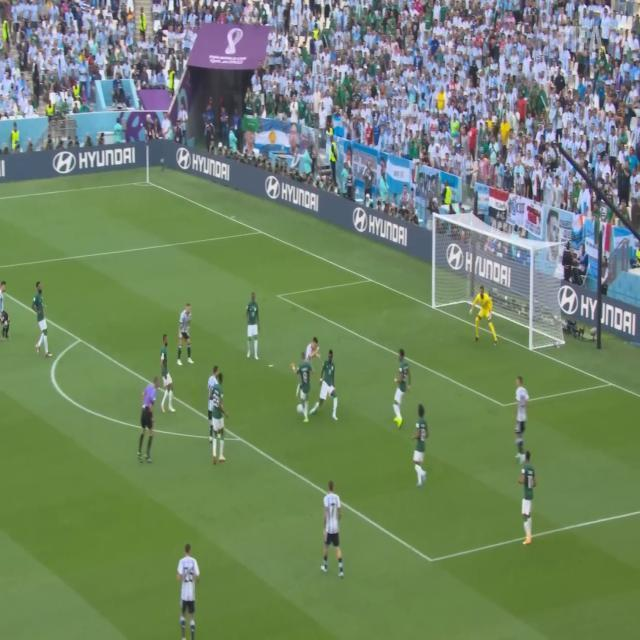player: (322, 476, 345, 583), (177, 537, 200, 640), (157, 326, 179, 422), (518, 442, 538, 547), (32, 277, 56, 360), (411, 400, 432, 493), (468, 283, 500, 344), (297, 333, 318, 414), (245, 292, 266, 370), (320, 337, 340, 418), (391, 343, 410, 428), (172, 300, 194, 372), (292, 352, 314, 424), (214, 368, 229, 470), (514, 374, 527, 459), (208, 368, 219, 442), (0, 274, 11, 339)
